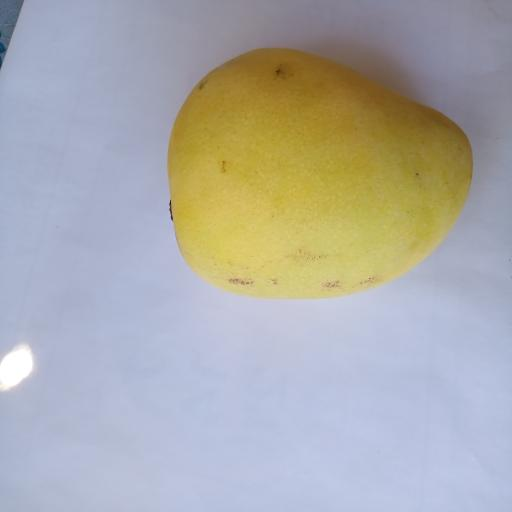mango-ripe: (138, 28, 491, 328)
